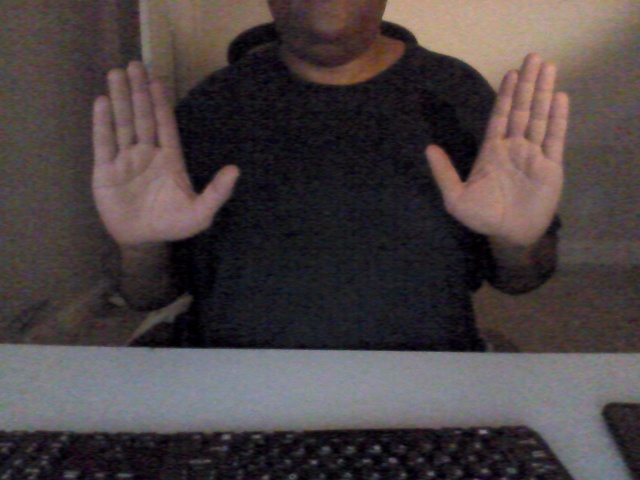great: (89, 50, 572, 256)
